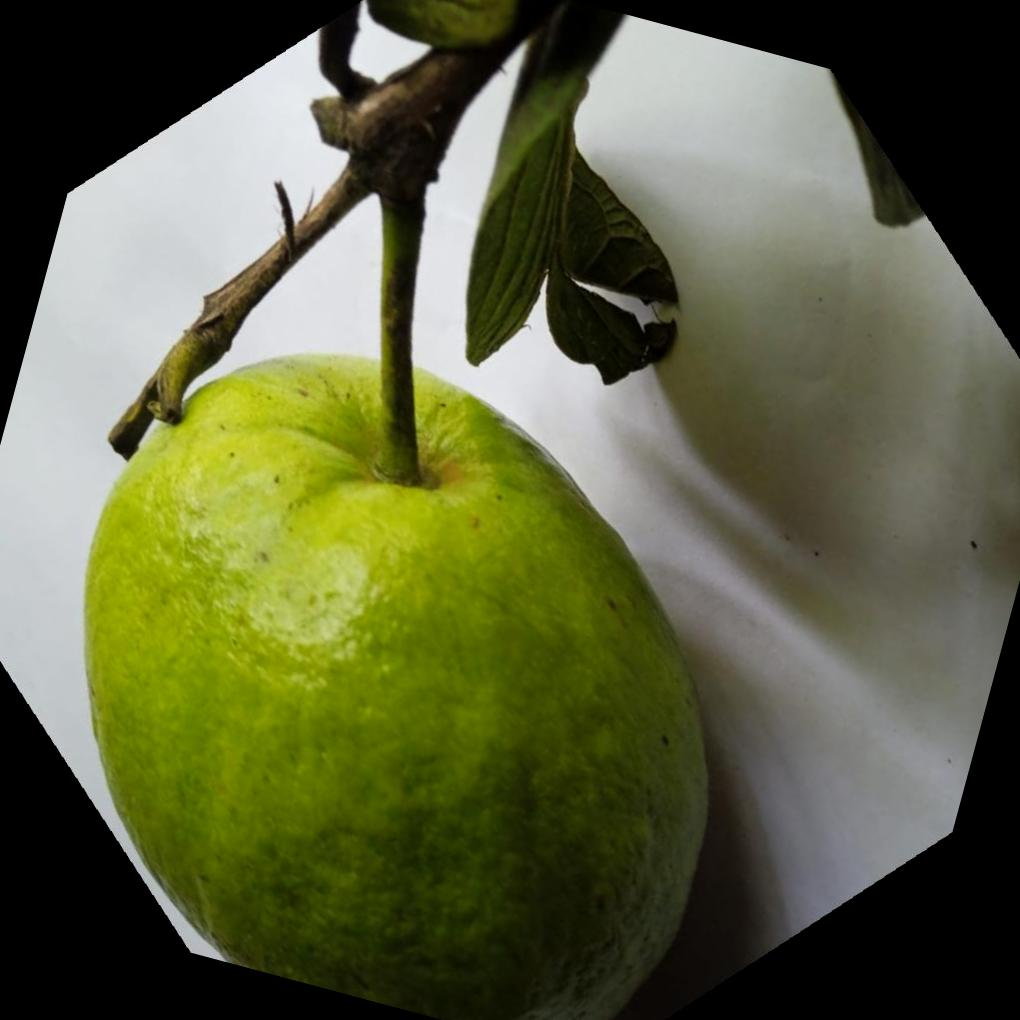FreshGuava: (82, 225, 713, 1020)
